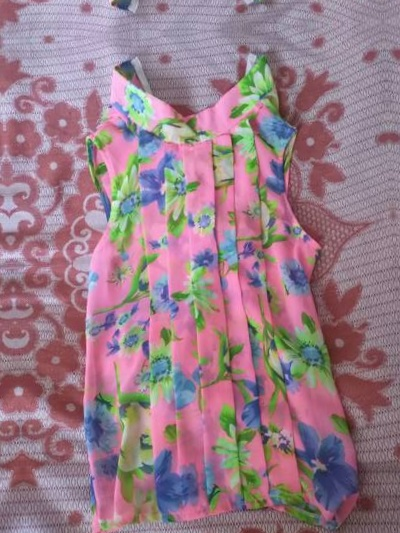Dress: (31, 52, 371, 533), (2, 0, 342, 11)
